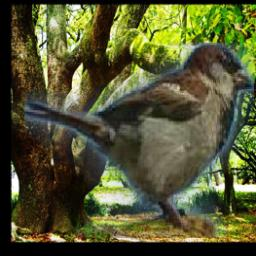Sparrow: (24, 43, 254, 238)
